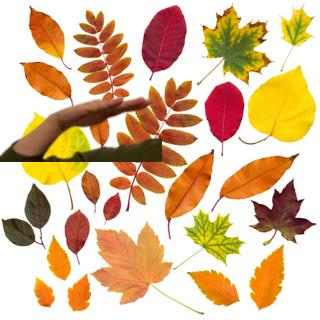WAIT: (49, 91, 155, 131)
